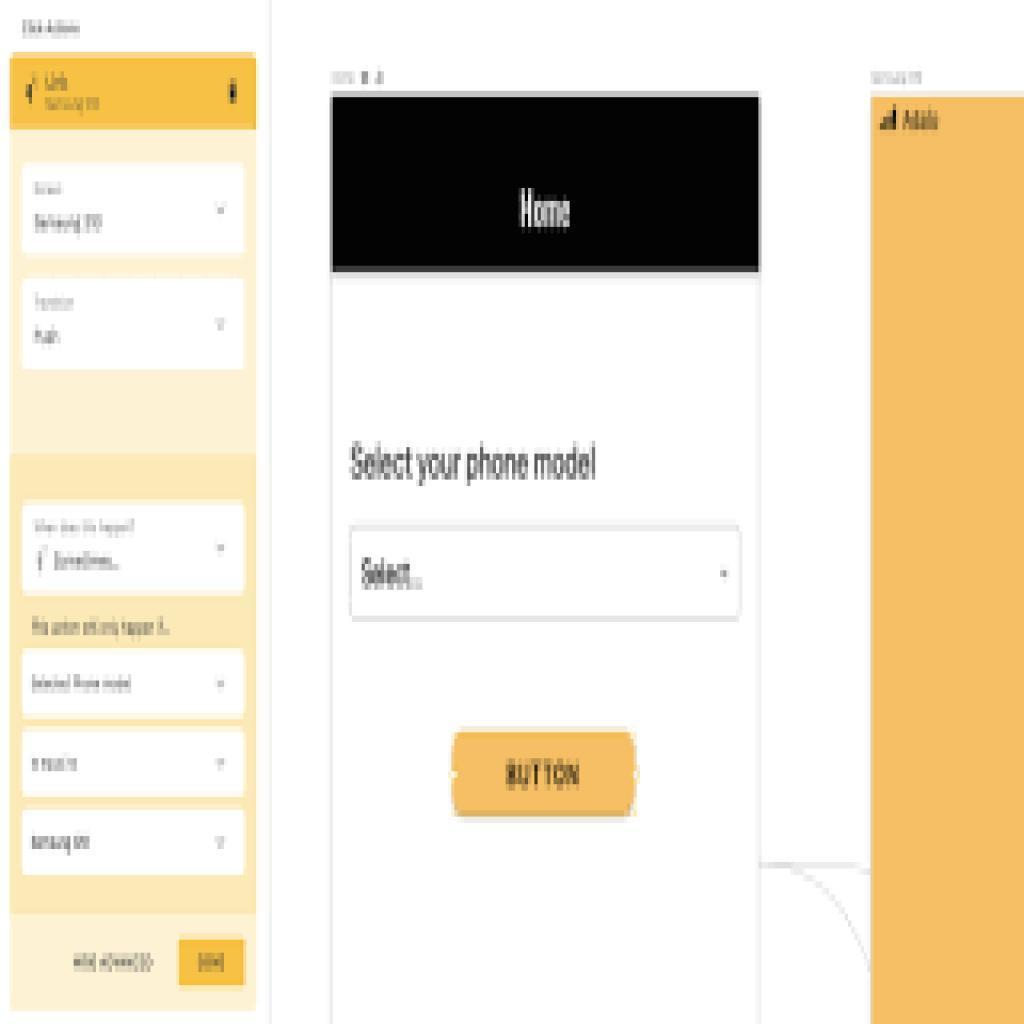button: (456, 735, 637, 818)
dropdown: (349, 525, 748, 623), (27, 504, 250, 597), (19, 281, 241, 374), (29, 167, 245, 251), (27, 647, 245, 724), (29, 735, 246, 805), (29, 815, 245, 878)
